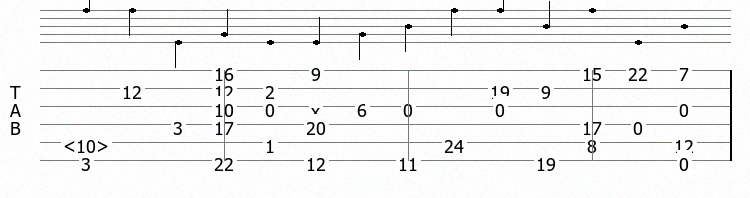0: (265, 98, 279, 115), (403, 98, 417, 115), (495, 98, 509, 115), (633, 116, 647, 133), (679, 152, 693, 169), (679, 98, 693, 115)
1: (265, 134, 279, 151)
10: (214, 98, 238, 115)
11: (398, 152, 422, 169)
12: (122, 80, 146, 97), (214, 80, 238, 97), (306, 152, 330, 169), (674, 134, 698, 151)
15: (582, 62, 606, 79)
16: (214, 62, 238, 79)
17: (214, 116, 238, 133), (582, 116, 606, 133)
19: (490, 80, 514, 97), (536, 152, 560, 169)
2: (265, 80, 279, 97)
20: (306, 116, 330, 133)
22: (214, 152, 238, 169), (628, 62, 652, 79)
24: (444, 134, 468, 151)
3: (81, 152, 95, 169), (173, 116, 187, 133)
6: (357, 98, 371, 115)
7: (679, 62, 693, 79)
8: (587, 134, 601, 151)
9: (311, 62, 325, 79), (541, 80, 555, 97)
harmonic: (63, 134, 113, 151)
x: (311, 99, 324, 113)
